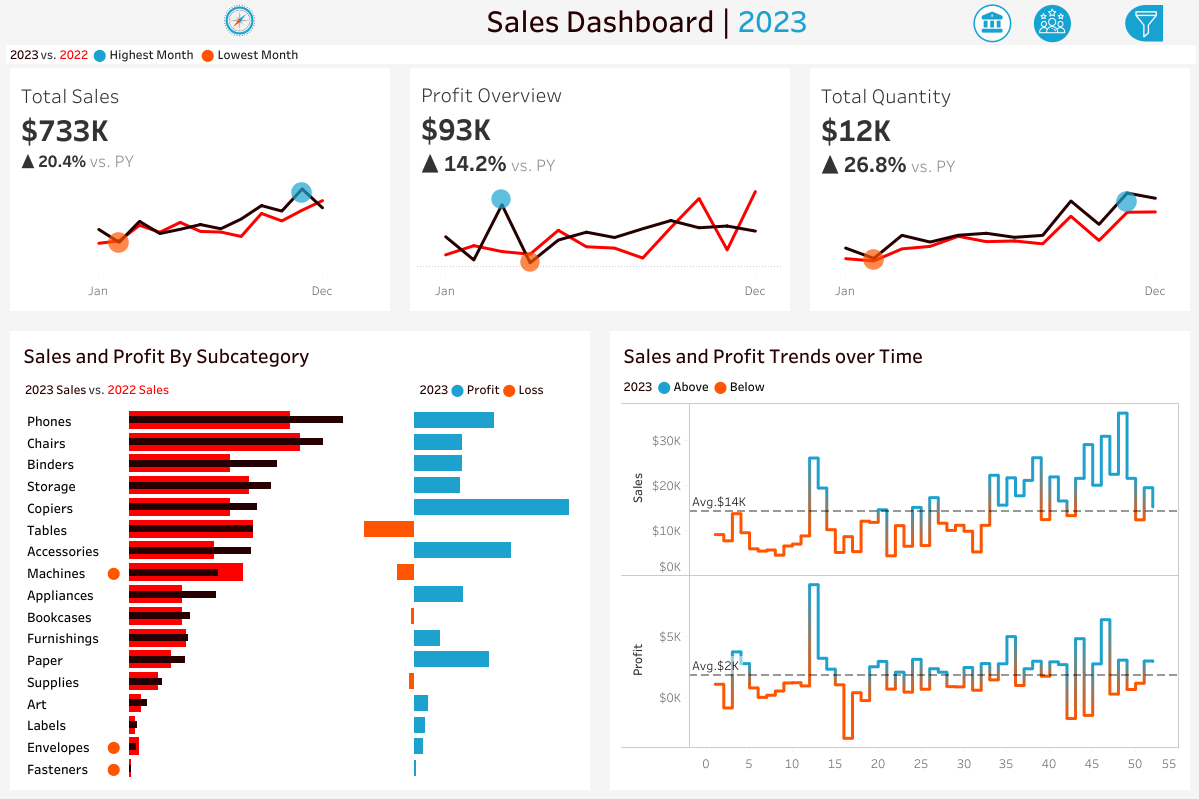

Layout of this report page (visuals, bound fields, positions):
{"tool":"tableau","page":{"name":"Sales Dashboard","canvas":[1200,800],"ordinal":1},"visuals":[{"type":"image","param":"C:/Users/mrsid/Downloads/Sales-Dashboard-Materials/Sales Dashboard Materials/Das","box":[0,0,480,41]},{"type":"text","box":[480,0,720,41]},{"type":"dashboard-object","box":[969,0,47,47]},{"type":"dashboard-object","box":[1016,0,73,47]},{"type":"dashboard-object","box":[1089,0,109,47]},{"type":"worksheet","title":"Legend of KPI","mark":"Automatic","box":[0,41,1200,27]},{"type":"worksheet","title":"KPI Sales","mark":"Line","rows":["min/max of profit (copy)_1266074446048530432"],"cols":["Order Date"],"box":[0,68,400,253]},{"type":"worksheet","title":"KPI Profit","mark":"Automatic","rows":["min/max of sales  (copy)_558446422227496972"],"cols":["Order Date"],"box":[400,68,400,253]},{"type":"worksheet","title":"KPI Quantity","mark":"Automatic","rows":["min/max of sales  (copy)_558446422247002131"],"cols":["Order Date"],"box":[800,68,400,253]},{"type":"text","box":[996,77,189,35]},{"type":"blank","box":[996,112,189,32]},{"type":"parameter","param":"[Parameters].[Parameter 1]","box":[996,144,189,52]},{"type":"text","box":[996,196,189,29]},{"type":"filter","title":"KPI Sales","param":"[federated.0umabp31bv2e651avfrr90ybu1on].[none:Category:nk]","box":[996,225,189,52]},{"type":"filter","title":"KPI Sales","param":"[federated.0umabp31bv2e651avfrr90ybu1on].[none:Sub-Category:nk]","box":[996,277,189,52]},{"type":"blank","box":[996,329,189,33]},{"type":"text","box":[17,338,566,34]},{"type":"text","box":[617,338,566,34]},{"type":"text","box":[996,362,189,29]},{"type":"worksheet","title":"Legend of Sub category","mark":"Automatic","box":[17,372,396,32]},{"type":"text","box":[413,372,170,32]},{"type":"text","box":[617,372,566,25]},{"type":"filter","title":"KPI Sales","param":"[federated.0umabp31bv2e651avfrr90ybu1on].[none:State:nk]","box":[996,391,189,52]},{"type":"worksheet","title":"Weekly Trends","mark":"Automatic","rows":["Calculation_558446422144430081","current year sales (copy)_558446422227042314"],"cols":["Order Date"],"box":[617,397,566,386]},{"type":"worksheet","title":"Subcategory comparism","mark":"Bar","rows":["Sub-Category","Calculation_558446353838567450"],"cols":["current year sales (copy)_558446422145069058","Calculation_558446422144430081","current year sales (copy)_558446422227042314"],"box":[17,404,566,378.9]},{"type":"filter","title":"KPI Sales","param":"[federated.0umabp31bv2e651avfrr90ybu1on].[none:City:nk]","box":[996,443,189,52]},{"type":"filter","title":"KPI Sales","param":"[federated.0umabp31bv2e651avfrr90ybu1on].[none:Region:nk]","box":[996,495,189,52]}]}

Visuals, with their boxes in screenshot pixels (x1, y1, x2, y2), scaled from the page's 1200x800 canvas onto the 1199x799 screenshot:
image: Rect(0, 0, 480, 41)
text: Rect(480, 0, 1198, 41)
dashboard-object: Rect(968, 0, 1015, 47)
dashboard-object: Rect(1015, 0, 1088, 47)
dashboard-object: Rect(1088, 0, 1197, 47)
"Legend of KPI" worksheet: Rect(0, 41, 1198, 68)
"KPI Sales" worksheet (Line marks): Rect(0, 68, 400, 321)
"KPI Profit" worksheet: Rect(400, 68, 799, 321)
"KPI Quantity" worksheet: Rect(799, 68, 1198, 321)
text: Rect(995, 77, 1184, 112)
blank: Rect(995, 112, 1184, 144)
parameter: Rect(995, 144, 1184, 196)
text: Rect(995, 196, 1184, 225)
"KPI Sales" filter: Rect(995, 225, 1184, 277)
"KPI Sales" filter: Rect(995, 277, 1184, 329)
blank: Rect(995, 329, 1184, 362)
text: Rect(17, 338, 583, 372)
text: Rect(616, 338, 1182, 372)
text: Rect(995, 362, 1184, 391)
"Legend of Sub category" worksheet: Rect(17, 372, 413, 403)
text: Rect(413, 372, 583, 403)
text: Rect(616, 372, 1182, 397)
"KPI Sales" filter: Rect(995, 391, 1184, 442)
"Weekly Trends" worksheet: Rect(616, 397, 1182, 782)
"Subcategory comparism" worksheet (Bar marks): Rect(17, 403, 583, 782)
"KPI Sales" filter: Rect(995, 442, 1184, 494)
"KPI Sales" filter: Rect(995, 494, 1184, 546)
